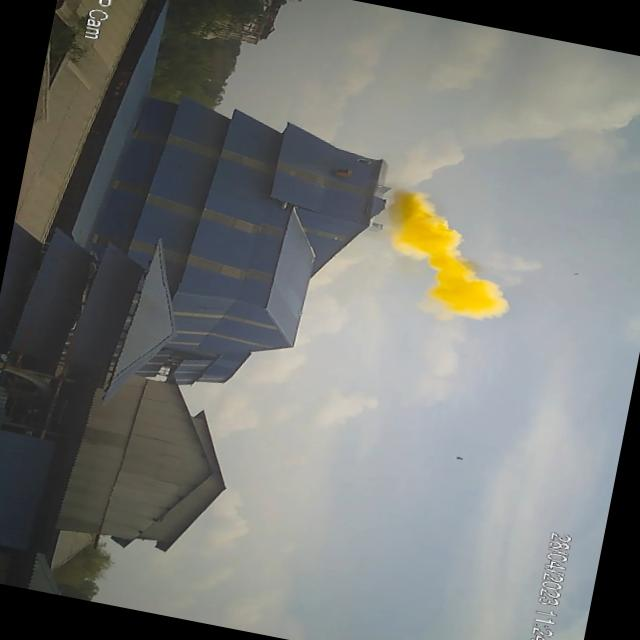yellow smoke: (369, 185, 532, 329)
